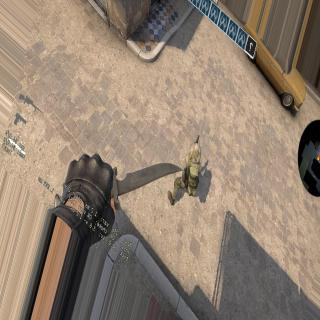CT-Body: (176, 140, 204, 197)
CT-Head: (190, 142, 202, 163)
